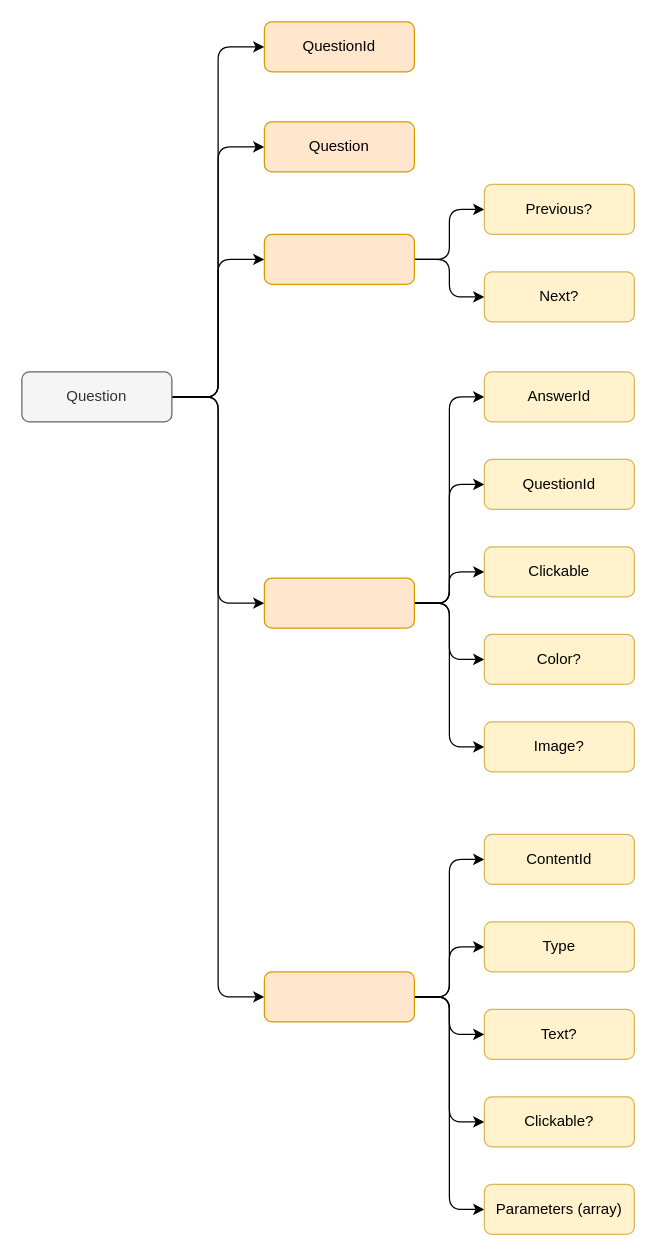
Image size: 656x1256. Some labels were removed from this diagram. Here are the shapes that lost their labels. From the top down, the centre of each, then its label:
the point at 338,258: Navigation
the point at 338,602: Answers (array)
the point at 338,996: Content (array)
